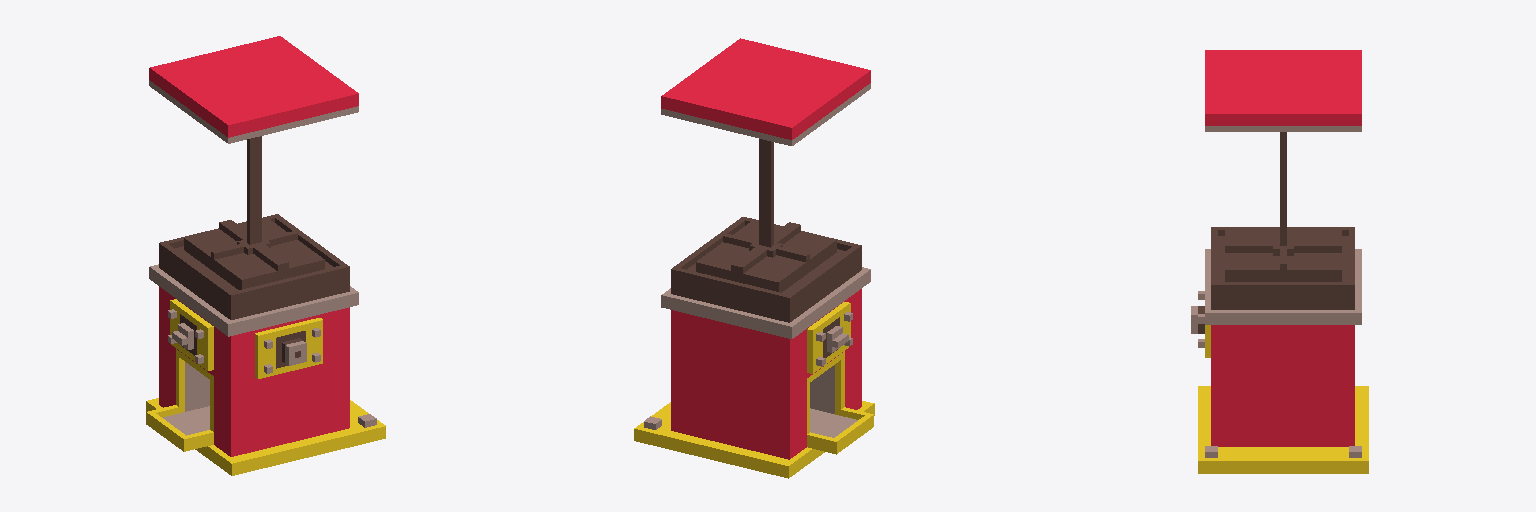
3 renders of one model, left to right at view 1: azimuth 30°, elevation 25°; view 2: azimuth 150°, elevation 25°; view 3: azimuth 270°, elevation 25°, orthographic.
Parts seen in each view (by area): view 1: prize_machine_bottom; view 2: prize_machine_bottom; view 3: prize_machine_bottom.
Boxes of the visible parts, <box> form: prize_machine_bottom: <box>146,36,385,475</box>; prize_machine_bottom: <box>634,38,874,478</box>; prize_machine_bottom: <box>1191,50,1368,473</box>.
Bounding box in the file's own units: 4.8 × 8.96 × 4.16.
1 materials, 1 textured.